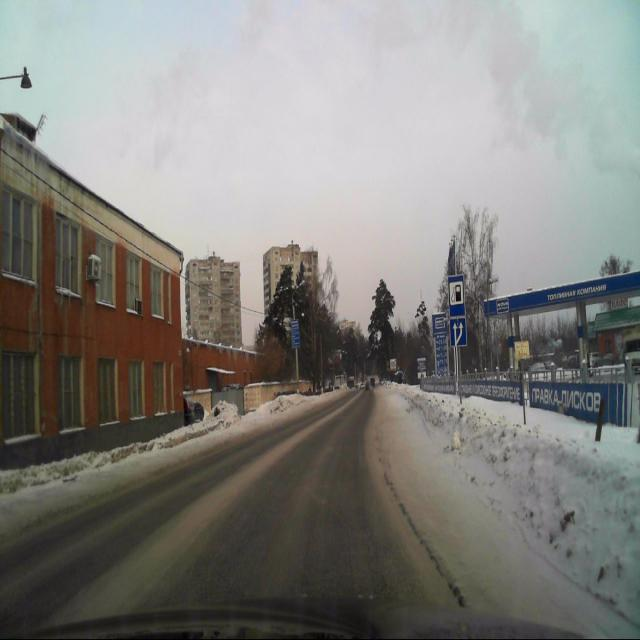road sign: (448, 274, 465, 317), (450, 317, 466, 347)
